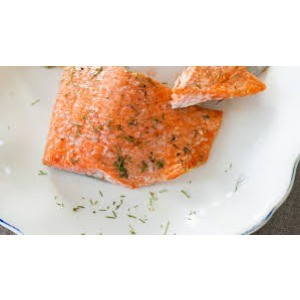salmon_brain food: (31, 69, 262, 186)
